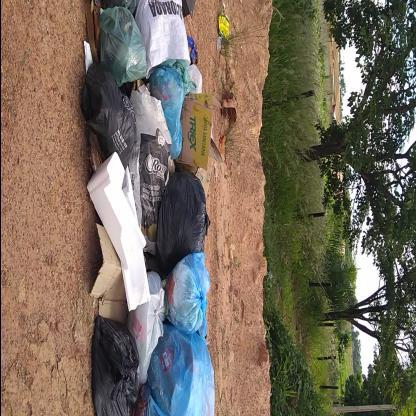lixo: (85, 0, 204, 415)
